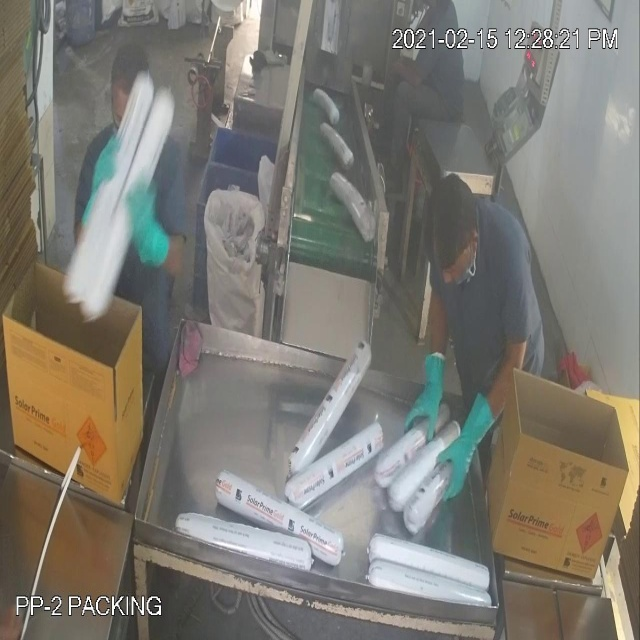Guantes: (424, 389, 503, 506), (128, 175, 193, 287), (399, 332, 448, 452)
Sin_guantes: (384, 44, 446, 98)
